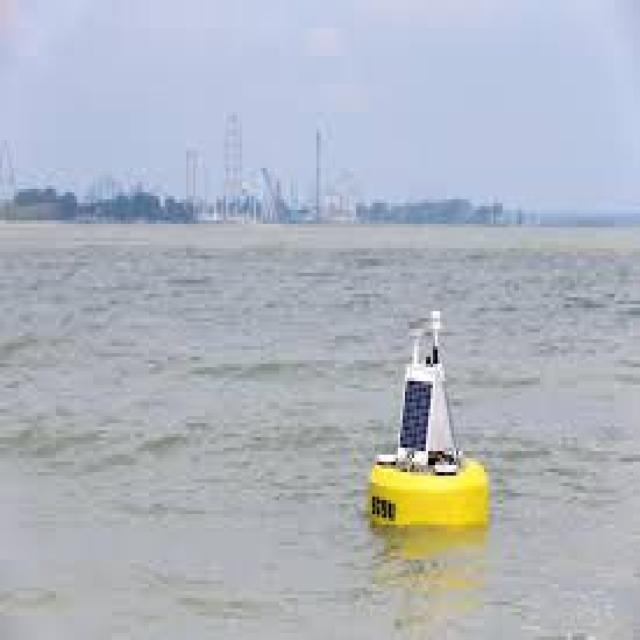buoy: (356, 291, 495, 552)
